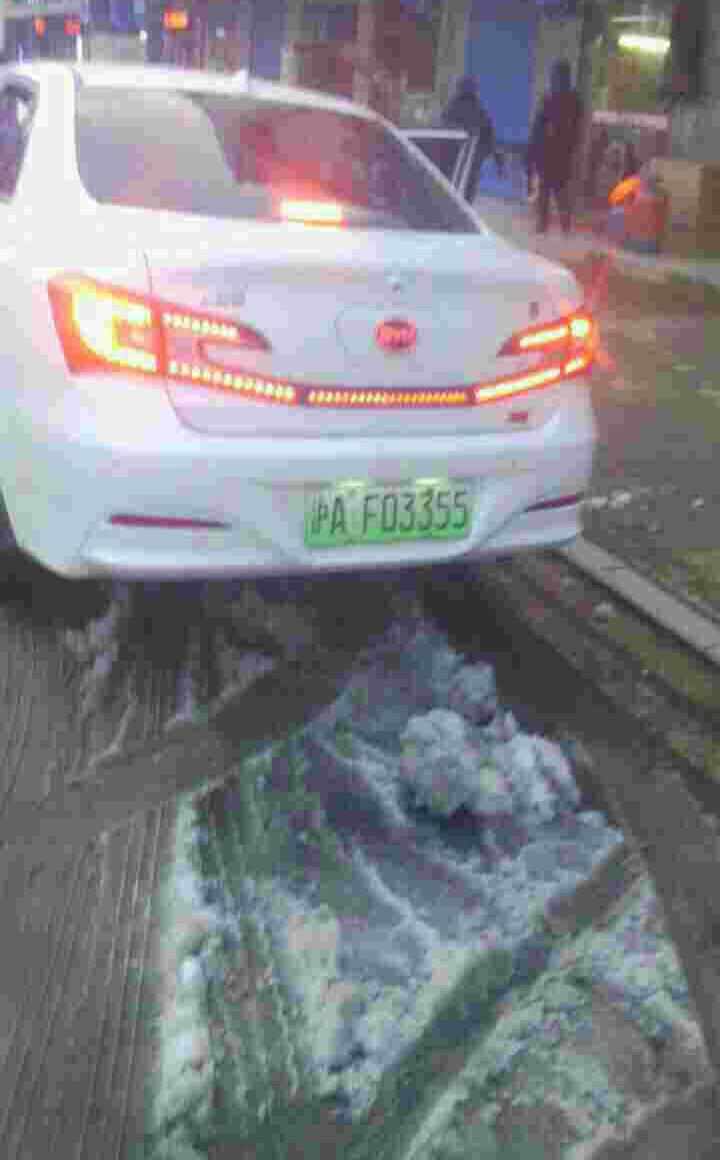car_id: (303, 484, 474, 543)
